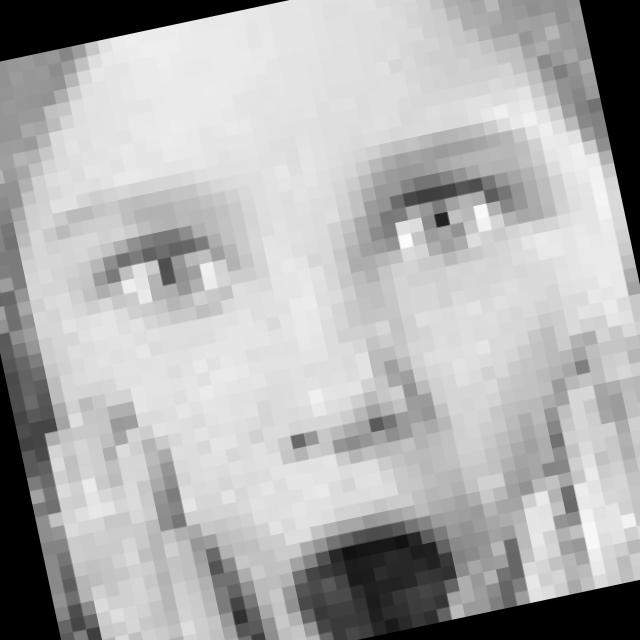surprise: (39, 87, 640, 640)
